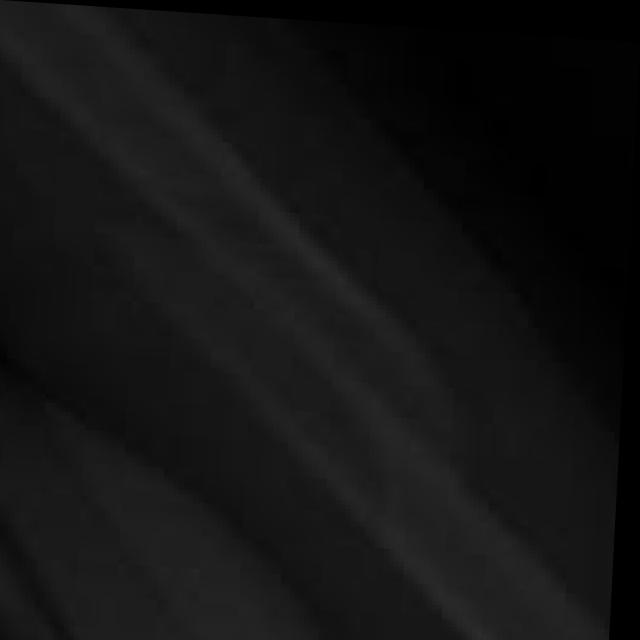fracture: (0, 11, 623, 640)
